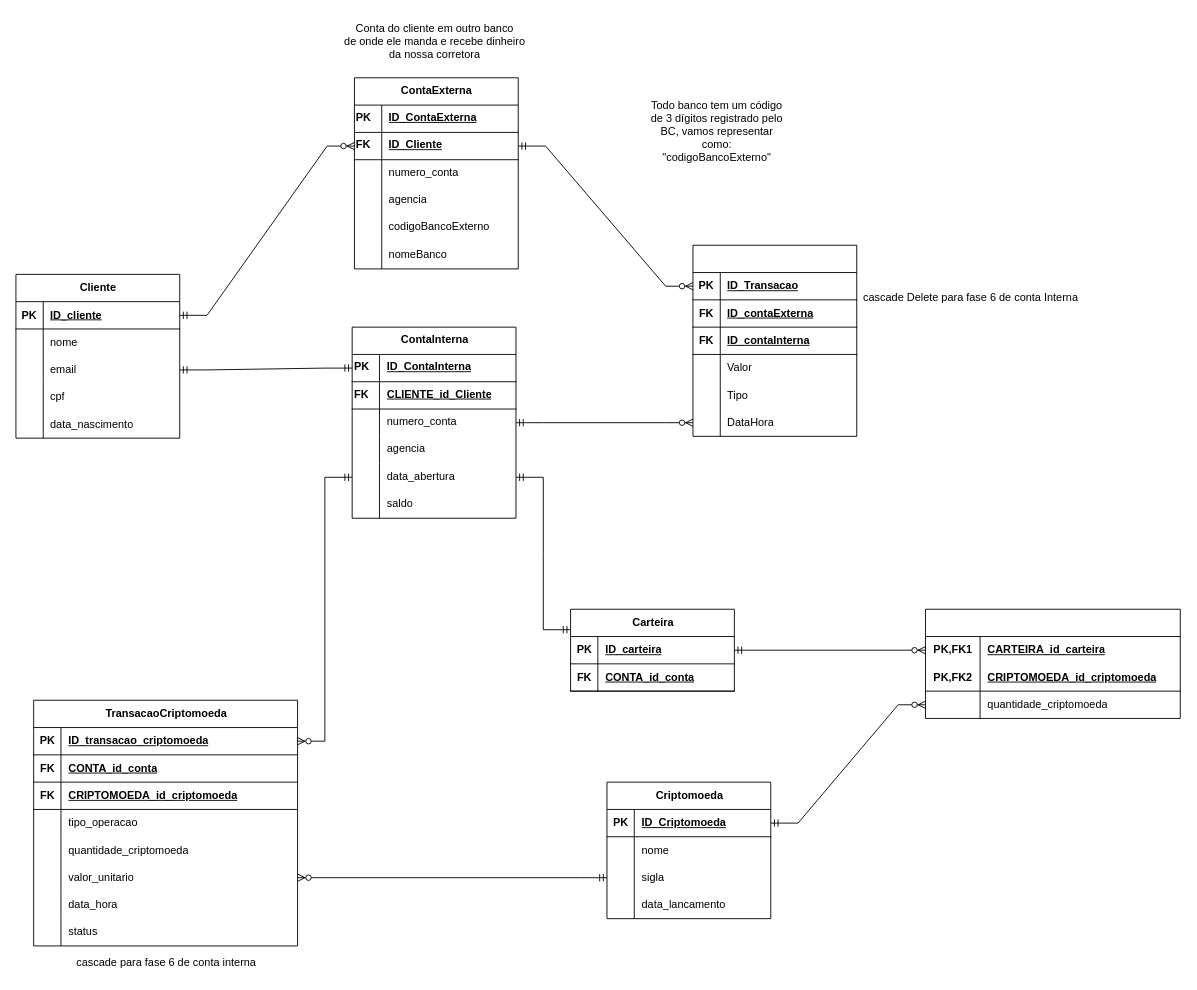
The diagram is 1197 pixels wide and 990 high, and some of its shapes have lost their labels. The shapes that lost their labels are listed below. From the top down, each one's box as (x1, y1, x2, y2) in pixels, then its label:
(692, 244, 857, 436): TransacaoFiat
(925, 608, 1180, 718): Posse
